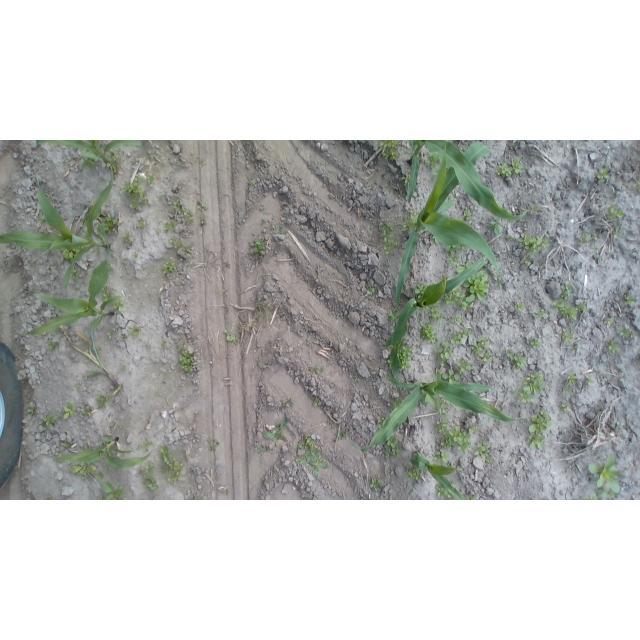Maize: (395, 141, 504, 310), (1, 164, 114, 289), (347, 374, 527, 452), (386, 257, 486, 397), (15, 228, 114, 337), (407, 141, 528, 222), (49, 435, 153, 470), (34, 140, 144, 169), (411, 452, 470, 500)
Weeds: (588, 453, 622, 493), (296, 438, 329, 477), (527, 410, 553, 451), (516, 372, 547, 403), (441, 427, 472, 454), (463, 271, 489, 302), (445, 286, 476, 311), (262, 419, 288, 442), (519, 234, 550, 253), (551, 299, 577, 321), (472, 336, 493, 362), (423, 300, 443, 324), (142, 461, 158, 491), (435, 342, 454, 367), (178, 344, 194, 373), (71, 462, 96, 480), (420, 320, 438, 344), (122, 183, 147, 199), (506, 349, 526, 369), (379, 140, 399, 160), (475, 442, 492, 465), (378, 221, 394, 245), (104, 482, 125, 500), (159, 444, 174, 469), (399, 345, 414, 370), (103, 212, 120, 234), (385, 436, 401, 459), (580, 490, 616, 500), (451, 329, 471, 346), (403, 211, 418, 233), (486, 214, 502, 234), (61, 247, 80, 263), (564, 373, 577, 396), (608, 204, 625, 221), (441, 369, 460, 384), (457, 358, 474, 374), (495, 163, 513, 178), (253, 237, 265, 258), (436, 484, 451, 500), (444, 244, 468, 254), (97, 393, 111, 409), (161, 468, 175, 484), (436, 417, 450, 433), (64, 402, 77, 419), (406, 468, 423, 481), (107, 155, 125, 167), (618, 327, 636, 339), (223, 329, 237, 344), (427, 152, 440, 168), (456, 261, 473, 273), (512, 157, 523, 175), (563, 328, 574, 346), (435, 401, 449, 415), (370, 478, 383, 493), (560, 283, 572, 299), (82, 157, 99, 168), (183, 208, 194, 225), (596, 168, 609, 182), (163, 262, 177, 275), (174, 460, 183, 480), (377, 416, 388, 432), (388, 309, 401, 322), (608, 340, 620, 354), (434, 452, 449, 463), (102, 287, 112, 302), (412, 283, 424, 295), (43, 414, 55, 426), (529, 338, 541, 350), (122, 232, 133, 245), (577, 301, 588, 313), (581, 231, 592, 243), (113, 300, 124, 312), (48, 340, 59, 352), (448, 253, 460, 264), (164, 221, 177, 231), (335, 430, 348, 440), (525, 254, 534, 268), (170, 237, 181, 248), (208, 440, 219, 451), (391, 398, 402, 409), (146, 174, 156, 186), (462, 209, 472, 221), (309, 366, 326, 373), (71, 267, 80, 280), (402, 173, 411, 186), (281, 400, 295, 408), (365, 285, 375, 296), (515, 302, 526, 312), (141, 438, 152, 448), (135, 219, 145, 230), (129, 327, 139, 338), (625, 295, 635, 305), (439, 394, 449, 404), (452, 315, 463, 324), (130, 199, 139, 210), (82, 407, 91, 418), (61, 439, 70, 450), (561, 403, 570, 414), (384, 246, 395, 255), (277, 226, 287, 235), (173, 199, 180, 211), (537, 309, 546, 318), (594, 233, 603, 241), (614, 227, 621, 237), (56, 411, 63, 421), (196, 203, 207, 209), (388, 356, 393, 369), (28, 406, 36, 414), (605, 317, 614, 324), (135, 176, 144, 183), (257, 446, 264, 455), (315, 397, 322, 406), (433, 167, 440, 176), (262, 304, 269, 313), (433, 236, 440, 245), (77, 244, 89, 249), (387, 179, 393, 189), (36, 216, 44, 223), (97, 472, 104, 480), (469, 425, 477, 432), (107, 331, 113, 340), (587, 377, 593, 386), (572, 345, 578, 354), (393, 241, 402, 247), (466, 495, 476, 500), (141, 200, 148, 207), (76, 383, 83, 390), (160, 339, 167, 346), (636, 180, 640, 192), (82, 216, 88, 224), (182, 246, 190, 252), (115, 146, 121, 153), (507, 235, 514, 241), (531, 205, 537, 211), (199, 222, 206, 227), (356, 375, 361, 381), (614, 426, 619, 432), (131, 253, 137, 258), (155, 391, 161, 396), (99, 496, 106, 500), (194, 497, 203, 500), (31, 262, 36, 267), (156, 229, 161, 234), (84, 343, 89, 348), (450, 482, 455, 487), (250, 180, 255, 185), (119, 424, 124, 429), (110, 264, 113, 272), (123, 258, 127, 264), (112, 328, 118, 332), (151, 156, 156, 160), (466, 409, 471, 413), (83, 444, 88, 448), (121, 365, 126, 369), (164, 374, 169, 378), (223, 490, 227, 495), (87, 183, 92, 187), (259, 361, 262, 367), (132, 160, 136, 164), (96, 347, 100, 351), (149, 141, 152, 144)
